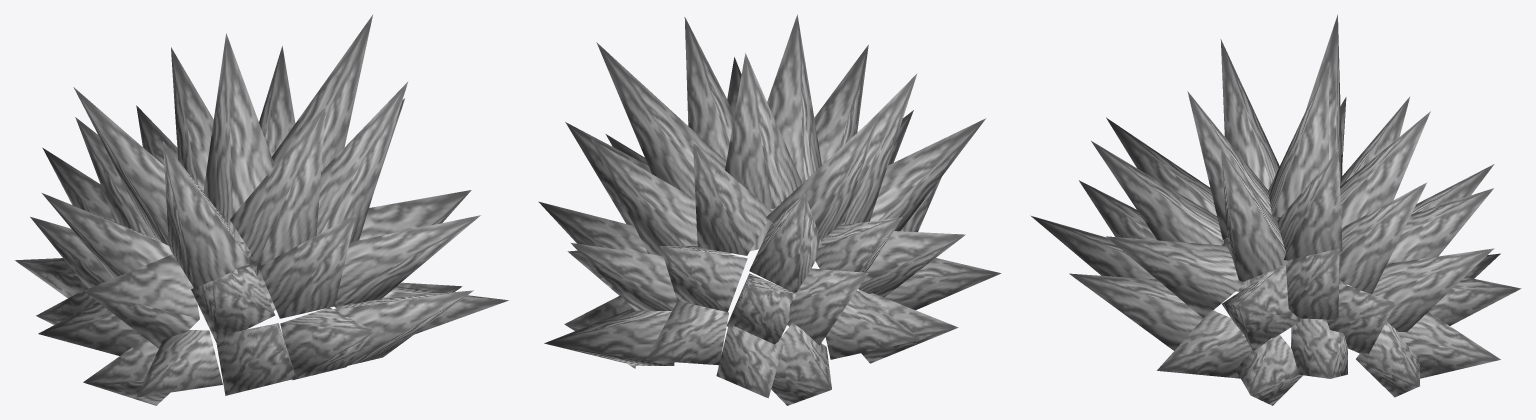
The model's file is Wig_Bob_Hair_LibertySpikes.fbx.
The picture shows the model from 3 angles, left to right: view 1: azimuth 30°, elevation 25°; view 2: azimuth 150°, elevation 25°; view 3: azimuth 270°, elevation 25°; orthographic projection. The views are drawn at different scales.
Parts seen in each view (by area): view 1: BoxOfJars003; view 2: BoxOfJars003; view 3: BoxOfJars003.
Part boxes in pixels (x1,y1,x2,y2): BoxOfJars003: (15,15,508,405); BoxOfJars003: (538,14,1001,405); BoxOfJars003: (1030,14,1521,405).
Bounding box in the file's own units: 19.18 × 15.59 × 23.13.
